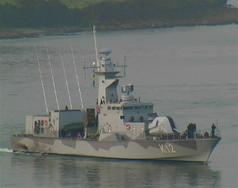warship: (9, 23, 221, 160)
